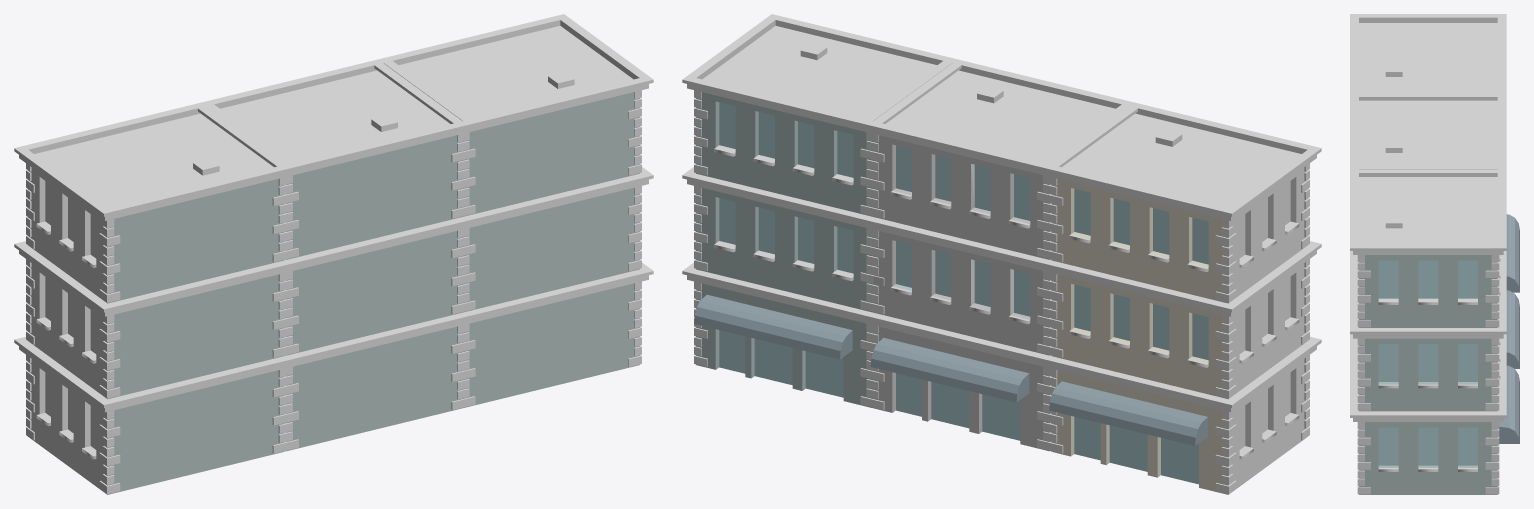
File: ShoppingBlock.fbx
3 renders of one model, left to right at view 1: azimuth 30°, elevation 25°; view 2: azimuth 150°, elevation 25°; view 3: azimuth 270°, elevation 25°, orthographic. The views are drawn at different scales.
Visible parts, largest first — view 1: apartments2.002; view 2: apartments2.002; view 3: apartments2.002.
Boxes of the visible parts, left/top/right/bottom form: apartments2.002: left=14, top=14, right=653, bottom=494; apartments2.002: left=682, top=14, right=1321, bottom=494; apartments2.002: left=1350, top=14, right=1519, bottom=494.
Size of the model in its own units: 1864 by 930 by 571.
